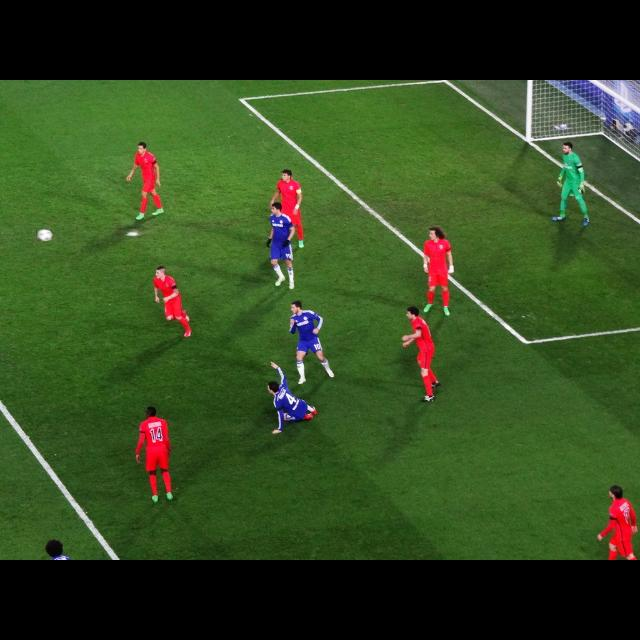Football: (36, 226, 50, 238)
